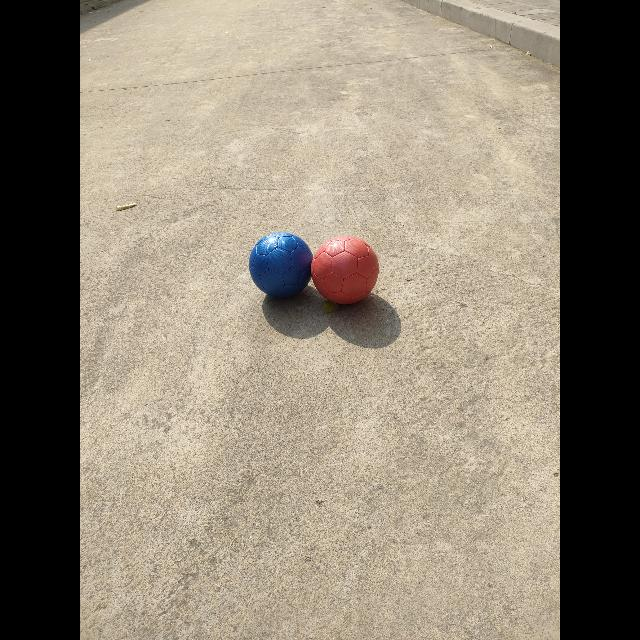B: (249, 231, 312, 298)
R: (311, 236, 379, 305)
